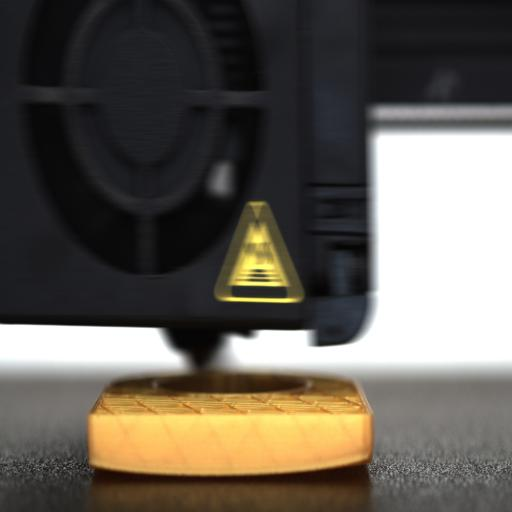warp: (301, 445, 380, 481), (81, 449, 150, 483)
